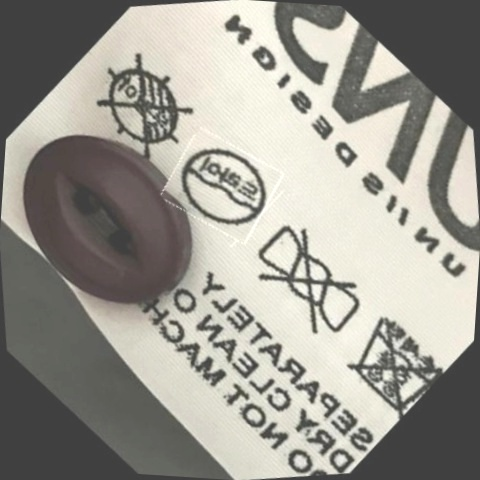DN_dry: (90, 51, 199, 162)
DN_wring: (247, 222, 370, 344)
dry_clean: (173, 136, 272, 238)
hand_wash: (340, 304, 444, 416)
